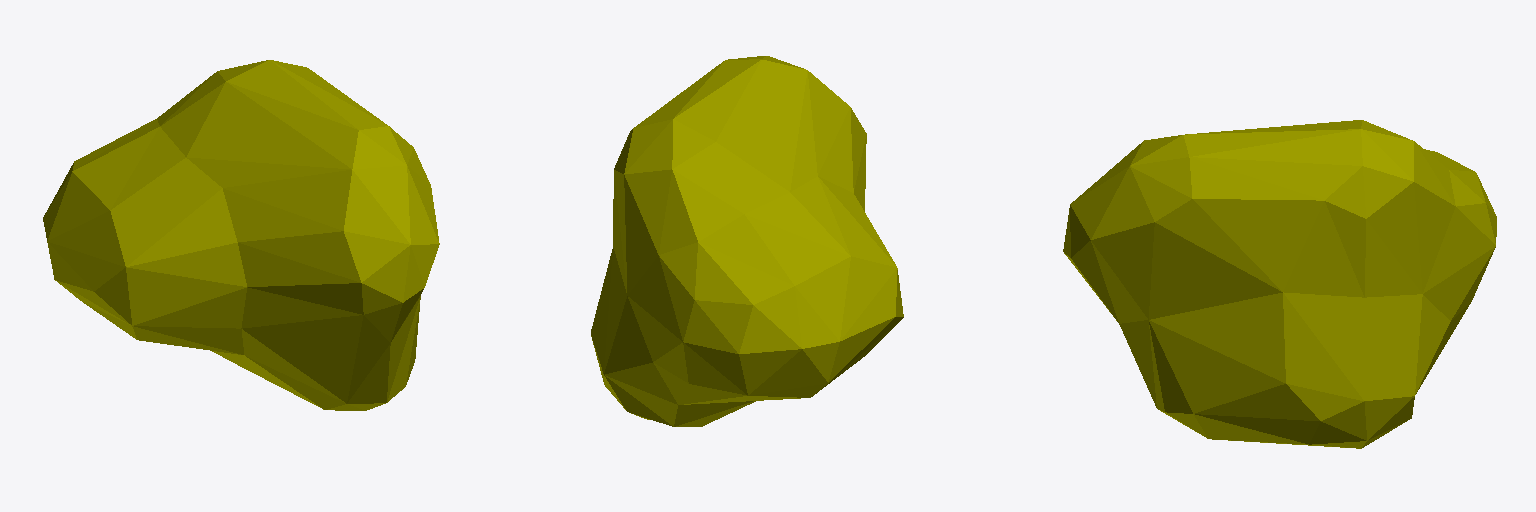
The model's file is SpC.obj.
The picture shows the model from 3 angles: view 1: azimuth 30°, elevation 25°; view 2: azimuth 150°, elevation 25°; view 3: azimuth 270°, elevation 25°; orthographic projection.
Visible parts, largest first — view 1: SpC_SpC.007; view 2: SpC_SpC.007; view 3: SpC_SpC.007.
Boxes of the visible parts, x1=… form: SpC_SpC.007: x1=43, y1=60, x2=439, y2=410; SpC_SpC.007: x1=591, y1=56, x2=903, y2=426; SpC_SpC.007: x1=1063, y1=120, x2=1496, y2=448.
Size of the model in its own units: 0.5515 by 0.5581 by 0.7151.